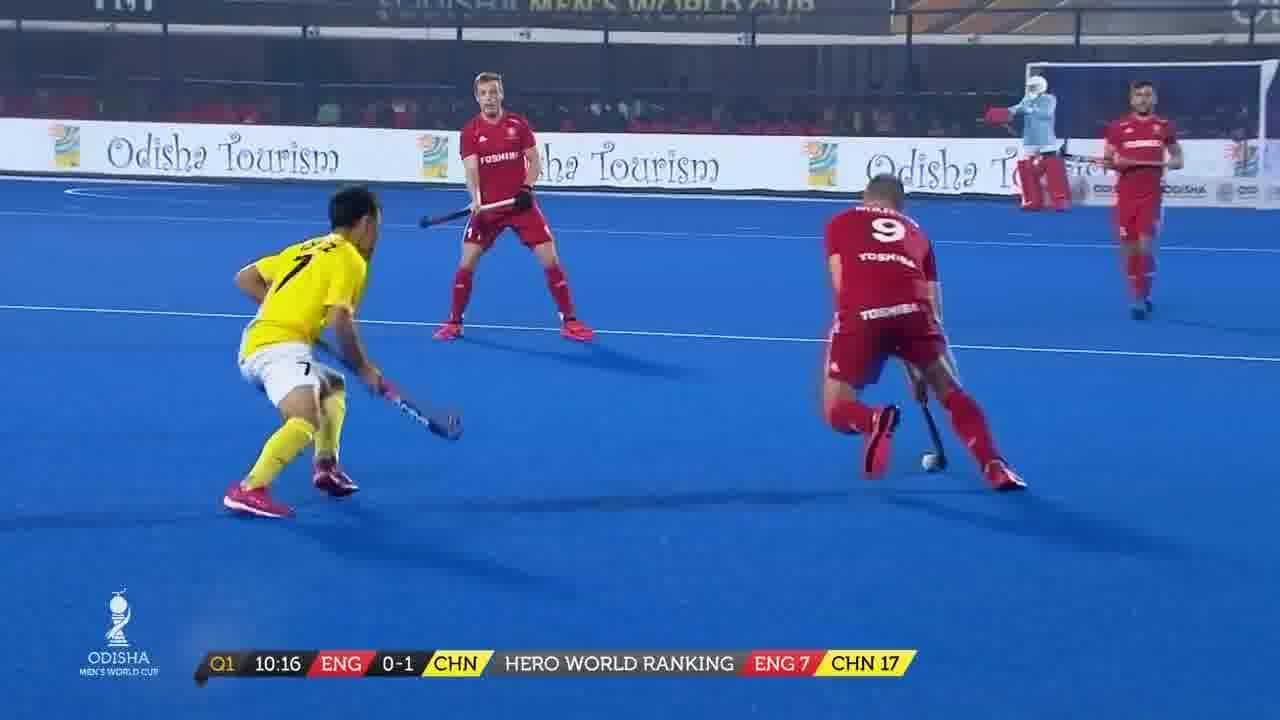ball: (915, 450, 950, 472)
